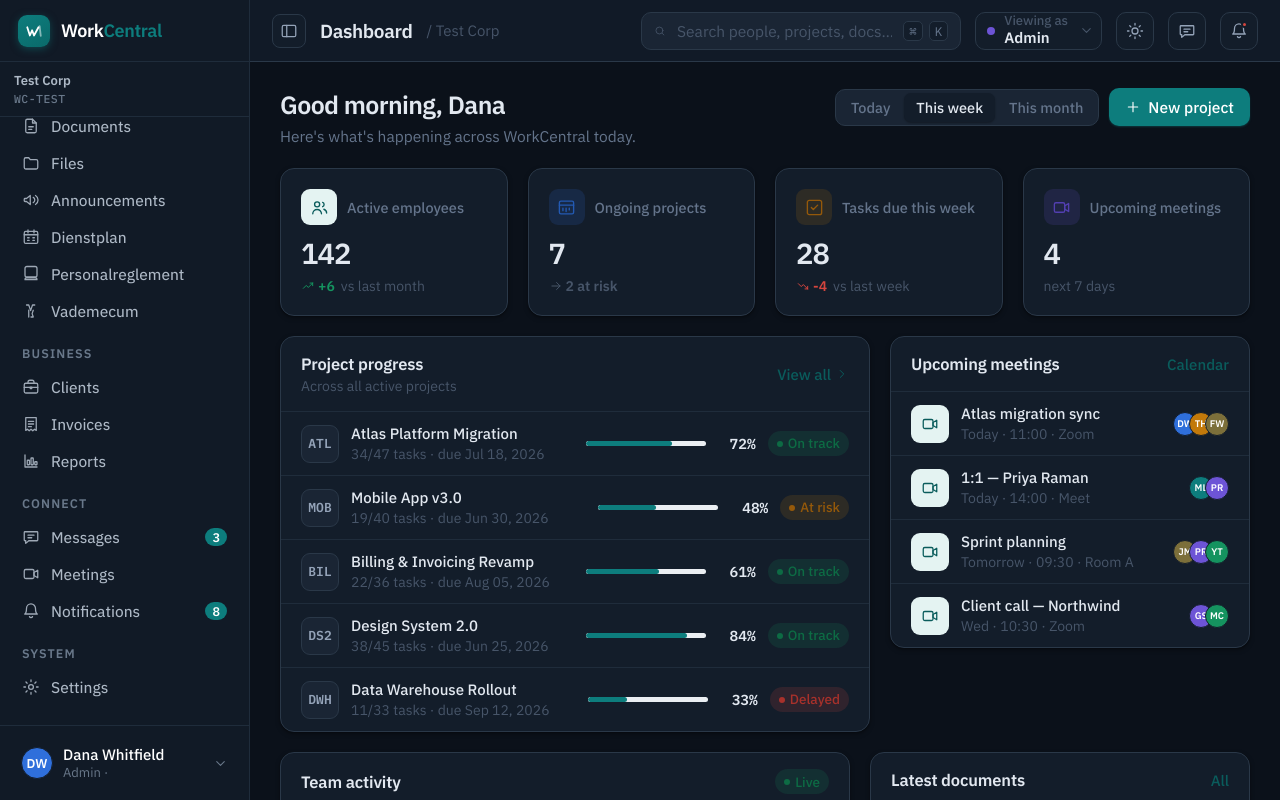
Test: App (authenticated) › navigates to Settings page when Settings nav item is clicked
(page scrolled)
Step 1. Click the text "Settings" → point(80, 686), box [51,676,108,696]
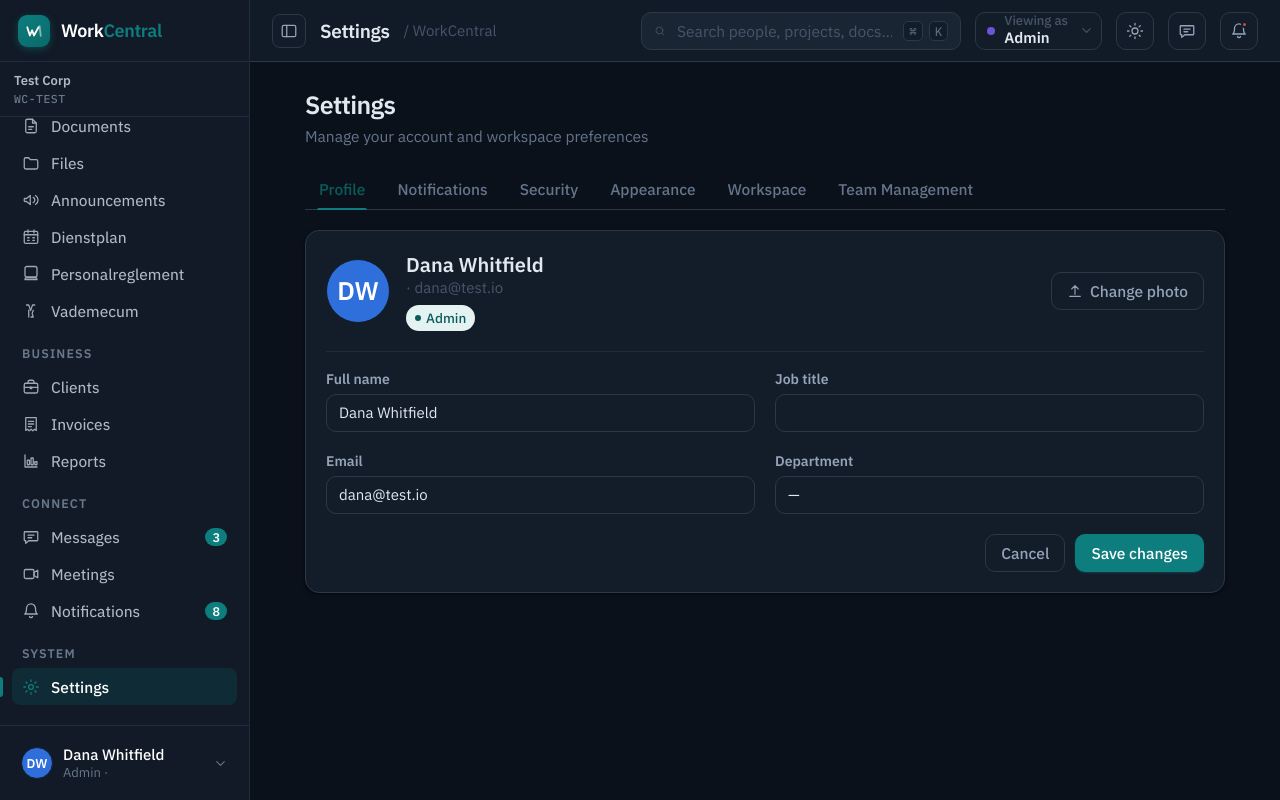
Now the text "Manage your account and workspace preferences" is shown, box [305,126,649,146]
